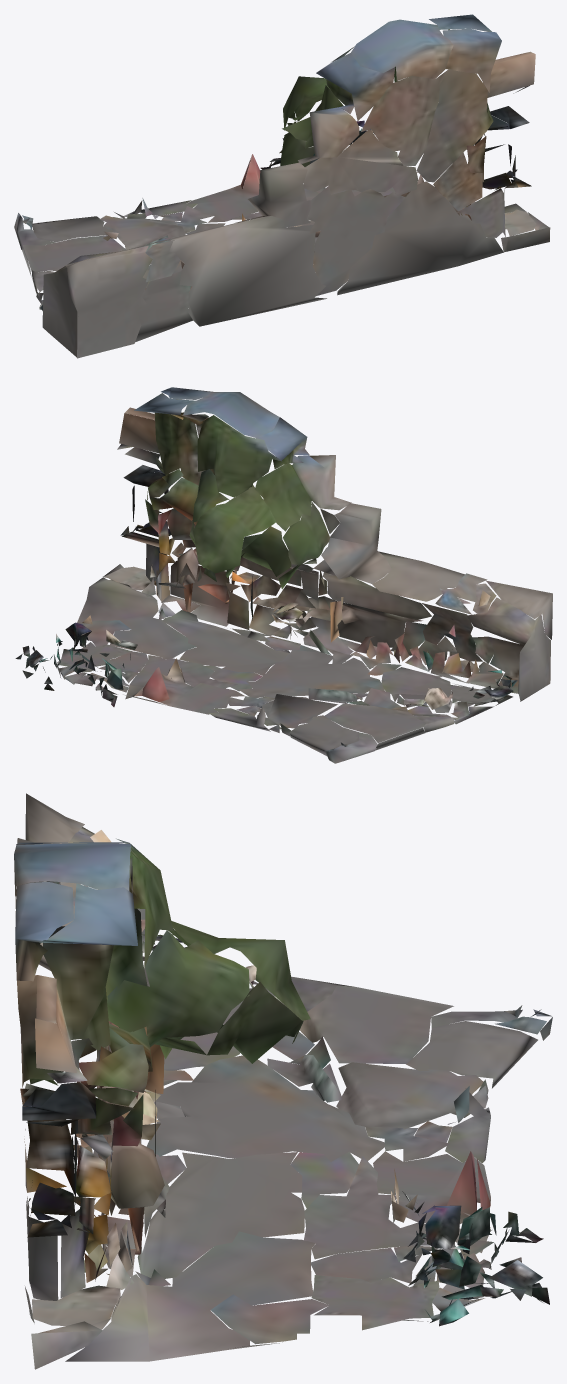
File: preview.glb
3 renders of one model, top to bottom at view 1: azimuth 30°, elevation 25°; view 2: azimuth 150°, elevation 25°; view 3: azimuth 270°, elevation 25°, orthographic. The views are drawn at different scales.
Parts seen in each view (by area): view 1: wudaoying/tripo_node_03c2d11e-c742-4df1-8693-452aa1b21051; view 2: wudaoying/tripo_node_03c2d11e-c742-4df1-8693-452aa1b21051; view 3: wudaoying/tripo_node_03c2d11e-c742-4df1-8693-452aa1b21051.
Boxes of the visible parts, x1,y1,x2,y2 form: wudaoying/tripo_node_03c2d11e-c742-4df1-8693-452aa1b21051: [14, 14, 550, 358]; wudaoying/tripo_node_03c2d11e-c742-4df1-8693-452aa1b21051: [15, 387, 552, 763]; wudaoying/tripo_node_03c2d11e-c742-4df1-8693-452aa1b21051: [14, 793, 552, 1369].
Size of the model in its own units: 1.11 by 0.5286 by 0.6262.
Materials: 1 (1 with a texture image).
